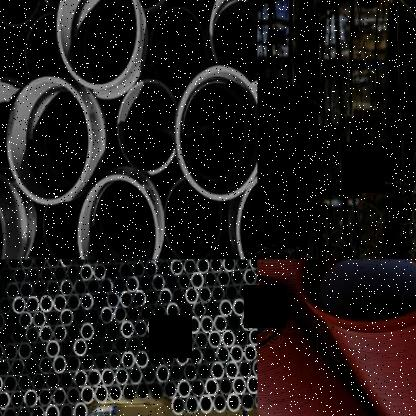pipe: (257, 78, 326, 248), (176, 65, 258, 202), (6, 76, 92, 204), (296, 260, 416, 324), (55, 0, 140, 89), (78, 174, 158, 260), (116, 79, 178, 173), (165, 176, 223, 260), (150, 7, 204, 89), (208, 0, 257, 87), (42, 190, 88, 260), (24, 11, 70, 81), (0, 77, 23, 170), (0, 0, 40, 27), (0, 177, 7, 259), (114, 0, 172, 9), (73, 368, 88, 390), (149, 380, 164, 402), (52, 354, 67, 375), (52, 387, 67, 408), (80, 384, 95, 405), (232, 376, 247, 396), (31, 372, 46, 392), (45, 372, 60, 392), (59, 370, 74, 390), (169, 364, 184, 384), (210, 361, 225, 381), (224, 360, 239, 380), (238, 360, 253, 380), (24, 356, 39, 376), (66, 354, 81, 374), (17, 342, 32, 362), (59, 338, 74, 358), (73, 338, 88, 358), (154, 332, 169, 352), (221, 329, 236, 349), (93, 321, 108, 341), (227, 313, 242, 333), (240, 312, 255, 332), (212, 394, 227, 414), (240, 392, 255, 412), (66, 386, 81, 406), (94, 384, 109, 404), (219, 376, 233, 397), (11, 357, 25, 378), (235, 327, 249, 348), (10, 389, 24, 410), (38, 387, 52, 408), (163, 379, 177, 400), (161, 348, 176, 367), (175, 347, 190, 366), (215, 345, 230, 364), (140, 334, 155, 353), (11, 326, 26, 345), (66, 323, 81, 342), (213, 314, 228, 333), (32, 310, 47, 329), (113, 305, 128, 324), (238, 282, 253, 301), (59, 279, 74, 298), (17, 373, 31, 393), (87, 368, 101, 388), (101, 368, 115, 388), (115, 366, 129, 386), (129, 366, 143, 386), (142, 365, 156, 385), (156, 364, 170, 384), (183, 362, 197, 382), (197, 362, 211, 382), (80, 353, 94, 373), (94, 352, 108, 372), (121, 350, 135, 370), (135, 350, 149, 370), (189, 346, 203, 366), (230, 344, 244, 364), (243, 344, 257, 364), (4, 342, 18, 362), (32, 340, 46, 360), (87, 336, 101, 356), (53, 324, 67, 344), (147, 318, 161, 338), (173, 316, 187, 336), (18, 310, 32, 330), (232, 298, 246, 318), (39, 294, 53, 314), (211, 284, 225, 304), (164, 272, 178, 292), (13, 266, 27, 286), (171, 396, 185, 416), (199, 394, 213, 414), (24, 388, 38, 408), (108, 384, 122, 404), (122, 382, 136, 402), (136, 382, 150, 402), (177, 378, 191, 398), (191, 378, 205, 398), (205, 378, 219, 398), (107, 352, 122, 370), (4, 312, 19, 330), (53, 294, 68, 312), (224, 284, 239, 302), (148, 349, 162, 368), (194, 331, 208, 350), (208, 330, 222, 349), (80, 322, 94, 341), (107, 321, 121, 340), (120, 320, 134, 339), (160, 317, 174, 336), (200, 315, 214, 334), (46, 309, 60, 328), (73, 307, 87, 326), (166, 302, 180, 321), (179, 301, 193, 320), (219, 299, 233, 318), (106, 291, 120, 310), (198, 285, 212, 304), (73, 278, 87, 297), (39, 265, 53, 284), (53, 264, 67, 283), (79, 263, 93, 282), (4, 374, 17, 394), (39, 356, 52, 376), (46, 340, 59, 360), (101, 336, 114, 356), (168, 332, 181, 352), (39, 324, 52, 344), (87, 306, 100, 326), (127, 304, 140, 324), (172, 286, 185, 306), (93, 262, 106, 282), (185, 395, 198, 415), (227, 392, 240, 412), (202, 346, 216, 364), (114, 336, 128, 354), (181, 332, 195, 350), (25, 326, 39, 344), (134, 320, 148, 338), (187, 316, 201, 334), (12, 296, 26, 314), (93, 292, 107, 310), (132, 290, 146, 308), (146, 289, 160, 307), (20, 281, 34, 299), (33, 280, 47, 298), (46, 280, 60, 298), (86, 278, 100, 296), (112, 276, 126, 294), (26, 267, 40, 285), (66, 264, 80, 282), (131, 260, 145, 278), (128, 335, 141, 354), (60, 308, 73, 327), (100, 306, 113, 325), (153, 303, 166, 322), (206, 300, 219, 319), (26, 295, 39, 314), (120, 290, 133, 309), (185, 286, 198, 305), (139, 274, 152, 293), (204, 271, 217, 290), (119, 261, 132, 280), (140, 304, 153, 322), (193, 301, 206, 319), (67, 294, 80, 312), (80, 292, 93, 310), (159, 288, 172, 306), (6, 282, 19, 300), (126, 275, 139, 293), (178, 272, 191, 290), (191, 272, 204, 290), (244, 268, 257, 286), (0, 267, 13, 285), (106, 262, 119, 280), (145, 260, 158, 278), (0, 296, 12, 315), (246, 374, 257, 394), (0, 358, 11, 378), (0, 326, 11, 346), (0, 391, 11, 411), (245, 297, 257, 315), (100, 278, 112, 296), (152, 274, 164, 292), (218, 270, 230, 288), (157, 260, 170, 276), (170, 260, 183, 276), (195, 260, 209, 274), (59, 402, 73, 416), (45, 403, 60, 416), (74, 401, 87, 416), (231, 270, 243, 286), (183, 260, 196, 274), (248, 326, 257, 346), (209, 260, 223, 272), (31, 404, 45, 416), (235, 260, 249, 271), (6, 259, 20, 270), (20, 259, 34, 270), (17, 405, 31, 416), (222, 260, 235, 271), (46, 259, 60, 269), (2, 406, 16, 416), (33, 259, 46, 269), (85, 259, 99, 267), (251, 282, 257, 300), (59, 259, 72, 267), (252, 358, 257, 378), (0, 312, 5, 331), (0, 281, 5, 300), (249, 259, 257, 270), (0, 259, 7, 271), (73, 259, 85, 266), (99, 259, 111, 266), (0, 342, 4, 362), (254, 311, 258, 331), (254, 390, 258, 410), (111, 259, 124, 265), (0, 374, 3, 395), (124, 260, 138, 264)
